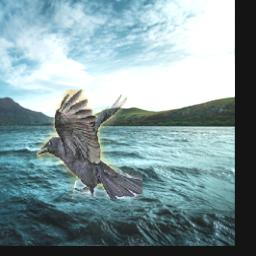Crow: (37, 89, 142, 199)
